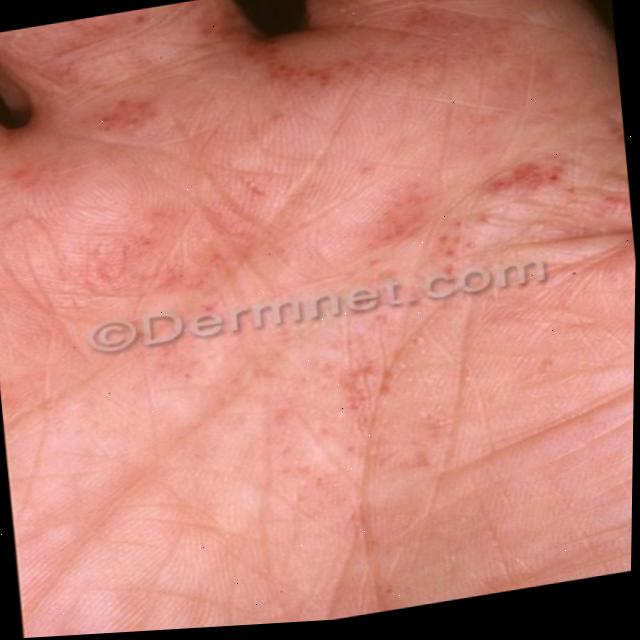Eczema: (0, 0, 596, 551)
